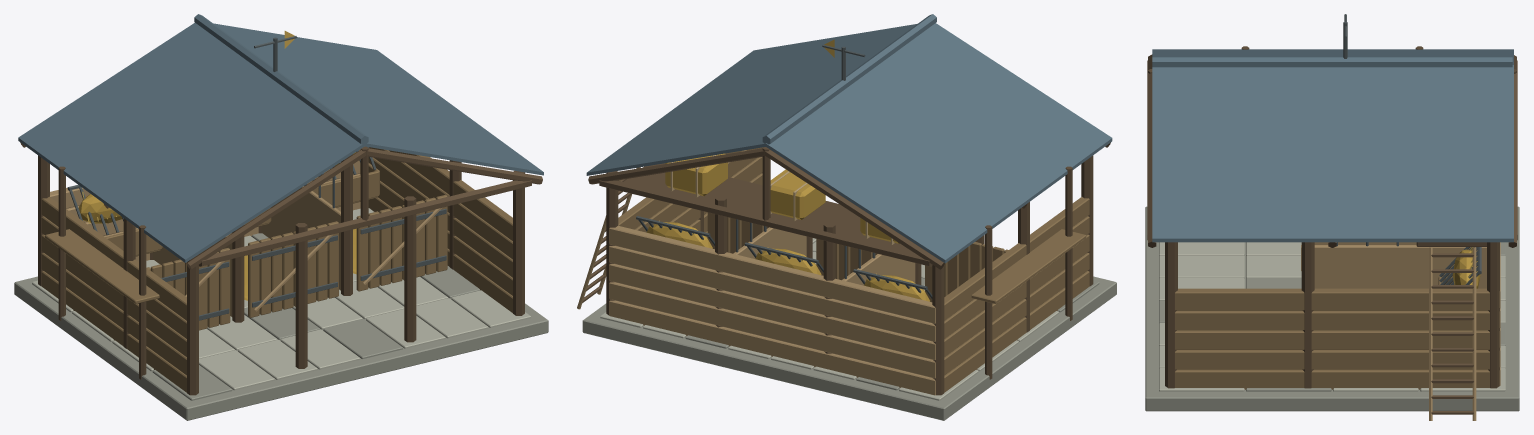
The model's file is stable.glb.
3 renders of one model, left to right at view 1: azimuth 30°, elevation 25°; view 2: azimuth 150°, elevation 25°; view 3: azimuth 270°, elevation 25°, orthographic. The views are drawn at different scales.
Parts seen in each view (by area): view 1: FloorCourse_mesh, RoofCourse.002_mesh, RoofCourse.004_mesh, FramePosts_mesh, Foundation_mesh, RoofCourse.005_mesh, RoofCourse.001_mesh, RoofTrusses_mesh, RoofCourse.003_mesh, RoofCourse_mesh, FloorCourse.001_mesh, StallGate.002_mesh (+13 smaller); view 2: RoofCourse.004_mesh, RoofCourse.002_mesh, Foundation_mesh, WallCourse.004_mesh, RoofCourse.001_mesh, RoofCourse.005_mesh, RoofTrusses_mesh, RoofCourse.003_mesh, WallCourse.002_mesh, RoofCourse_mesh, WallCourse.001_mesh, WallCourse_mesh (+14 smaller); view 3: RoofCourse.005_mesh, Foundation_mesh, RoofCourse.004_mesh, RoofCourse.003_mesh, RoofCourse.002_mesh, RoofCourse_mesh, RoofCourse.001_mesh, WallCourse.004_mesh, WallCourse.003_mesh, RoofTrusses_mesh, WallCourse.001_mesh, StallPartition.001_mesh (+9 smaller).
Boxes of the visible parts, x1,y1,x2,y2 form: FloorCourse_mesh: [152, 290, 530, 400]; RoofCourse.002_mesh: [104, 30, 457, 206]; RoofCourse.004_mesh: [46, 40, 517, 245]; FramePosts_mesh: [38, 154, 524, 395]; Foundation_mesh: [14, 276, 548, 420]; RoofCourse.005_mesh: [18, 46, 543, 262]; RoofCourse.001_mesh: [138, 25, 427, 186]; RoofTrusses_mesh: [20, 14, 542, 269]; RoofCourse.003_mesh: [75, 37, 482, 225]; RoofCourse_mesh: [164, 23, 398, 167]; FloorCourse.001_mesh: [112, 266, 479, 371]; StallGate.002_mesh: [356, 195, 447, 291]; RoofCourse.004_mesh: [613, 40, 1082, 245]; RoofCourse.002_mesh: [672, 31, 1025, 206]; Foundation_mesh: [582, 276, 1116, 420]; WallCourse.004_mesh: [609, 151, 1089, 323]; RoofCourse.001_mesh: [702, 26, 993, 187]; RoofCourse.005_mesh: [586, 46, 1112, 263]; RoofTrusses_mesh: [588, 14, 1110, 269]; RoofCourse.003_mesh: [642, 36, 1055, 226]; WallCourse.002_mesh: [609, 157, 1089, 360]; RoofCourse_mesh: [732, 23, 965, 166]; WallCourse.001_mesh: [609, 173, 1089, 378]; WallCourse_mesh: [609, 231, 1089, 395]; RoofCourse.005_mesh: [1152, 49, 1513, 242]; Foundation_mesh: [1145, 206, 1519, 411]; RoofCourse.004_mesh: [1152, 51, 1513, 213]; RoofCourse.003_mesh: [1152, 54, 1513, 184]; RoofCourse.002_mesh: [1152, 57, 1513, 155]; RoofCourse_mesh: [1152, 62, 1513, 97]; RoofCourse.001_mesh: [1152, 60, 1513, 126]; WallCourse.004_mesh: [1175, 242, 1500, 310]; WallCourse.003_mesh: [1175, 308, 1500, 330]; RoofTrusses_mesh: [1147, 54, 1517, 247]; WallCourse.001_mesh: [1175, 347, 1500, 369]; StallPartition.001_mesh: [1314, 242, 1486, 288].
Size of the model in its own units: 10.3 by 6.84 by 7.74.
